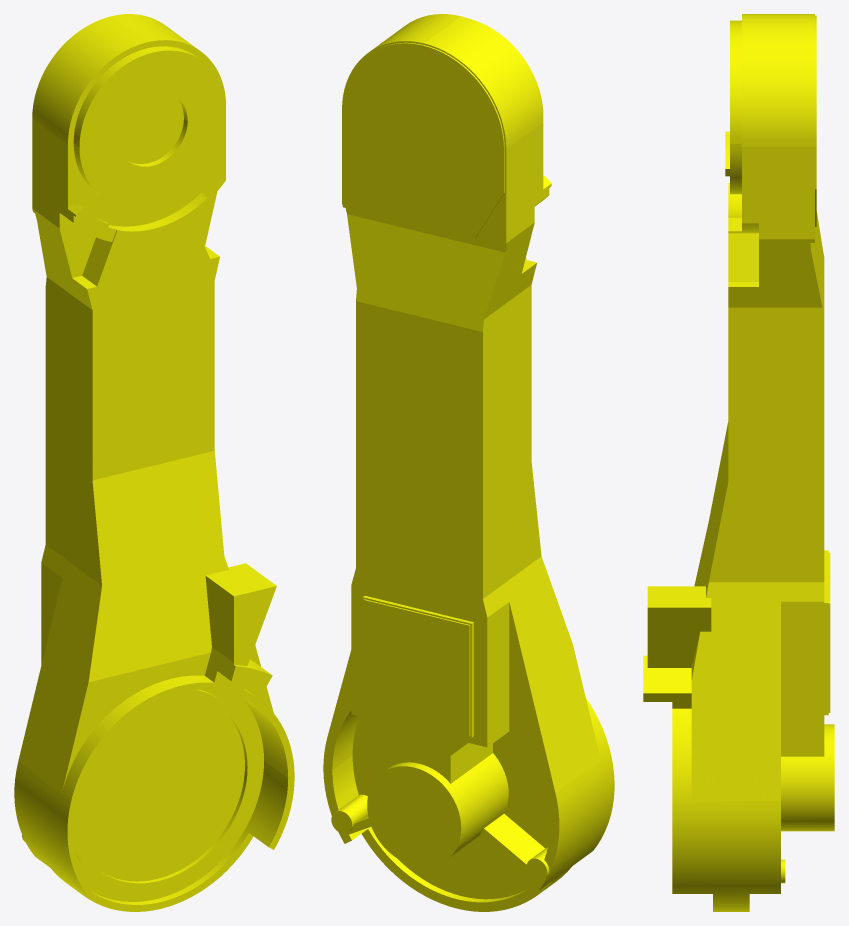
3 renders of one model, left to right at view 1: azimuth 30°, elevation 25°; view 2: azimuth 150°, elevation 25°; view 3: azimuth 270°, elevation 25°, orthographic. The views are drawn at different scales.
Visible parts, largest first — view 1: Mesh_0; view 2: Mesh_0; view 3: Mesh_0.
Part boxes in pixels (left/top/right/bottom): Mesh_0: left=14, top=14, right=294, bottom=911; Mesh_0: left=323, top=14, right=614, bottom=911; Mesh_0: left=643, top=14, right=834, bottom=911.
Bounding box in the file's own units: 0.316 × 0.225 × 1.14.
